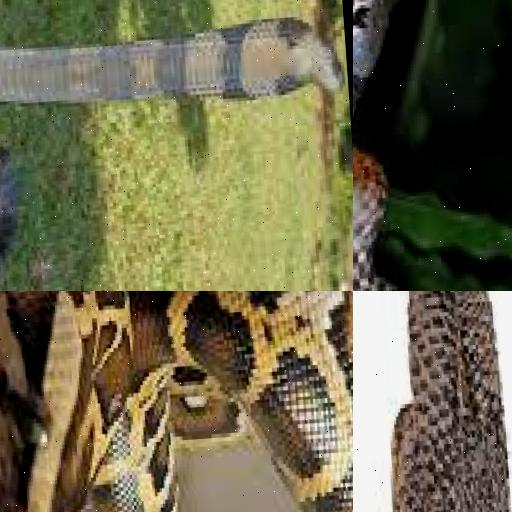snake: (0, 0, 353, 291), (0, 291, 353, 512), (357, 291, 512, 512), (353, 0, 443, 291)
